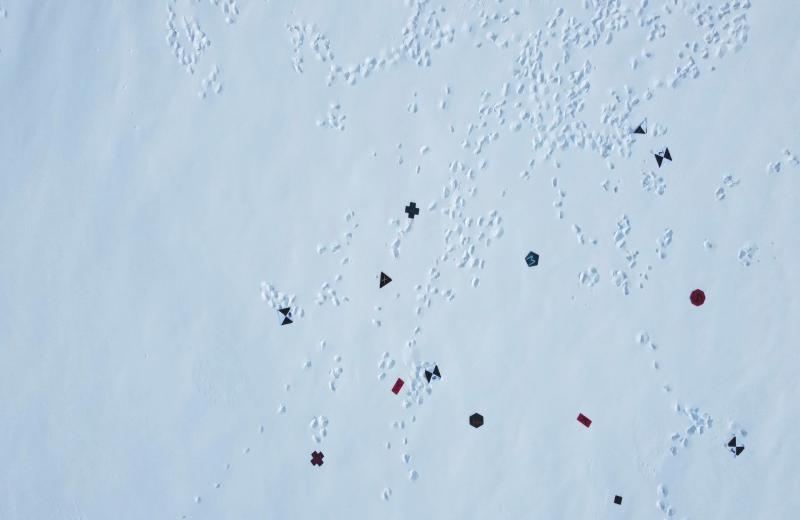Cross: (309, 449, 326, 468), (404, 200, 420, 220)
Hexagon: (467, 412, 485, 430)
Octagon: (688, 287, 706, 309)
Pentagon: (524, 250, 540, 268)
Rectangle: (390, 376, 408, 398), (575, 411, 593, 432)
Square: (612, 492, 624, 507)
Triangle: (375, 270, 394, 290)
